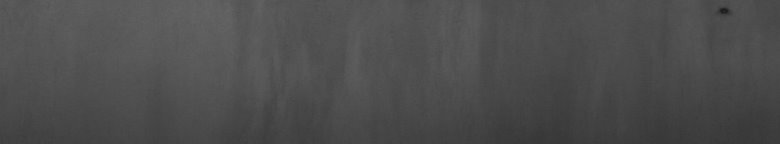fi: (716, 4, 735, 24)
